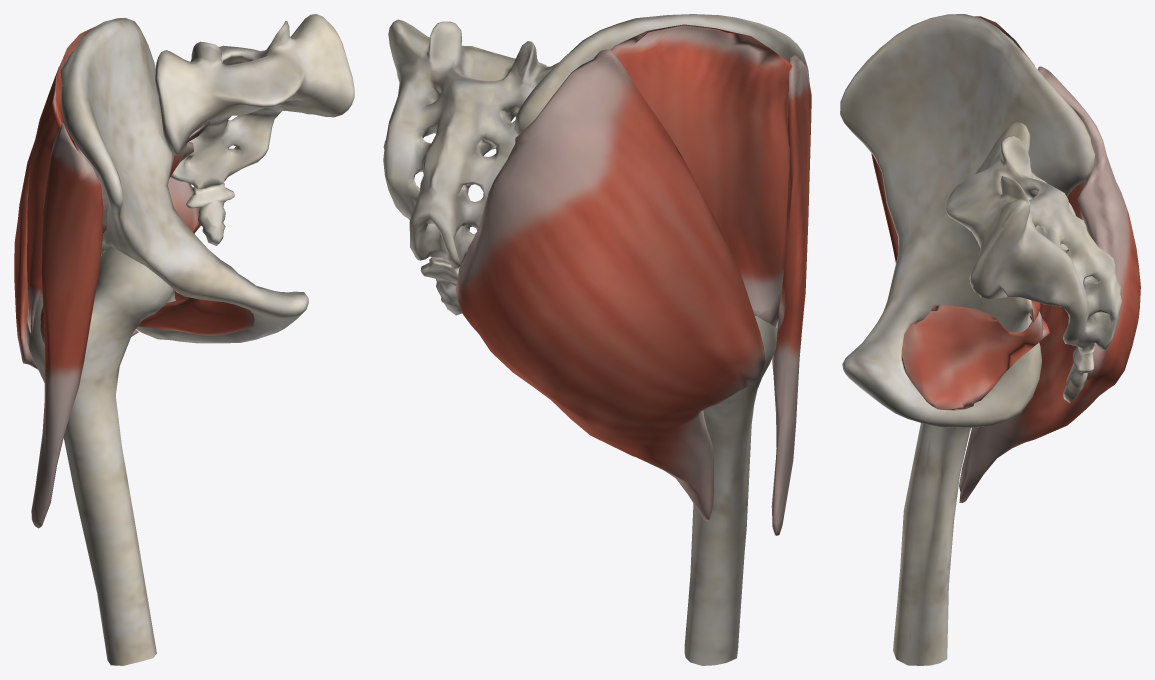
The model's file is gluteal-muscles.glb.
The picture shows the model from 3 angles, left to right: view 1: azimuth 30°, elevation 25°; view 2: azimuth 150°, elevation 25°; view 3: azimuth 270°, elevation 25°; orthographic projection. The views are drawn at different scales.
Parts seen in each view (by area): view 1: Right_hip_bone__os_coxa_or_innominate_bone_, Right_femur, Sacrum, Right_tensor_fasciae_latae, Right_gluteus_medius, Right_gluteus_maximus, Right_obturator_externus, Coccyx; view 2: Right_gluteus_maximus, Right_gluteus_medius, Sacrum, Right_femur, Right_tensor_fasciae_latae, Right_hip_bone__os_coxa_or_innominate_bone_, Coccyx; view 3: Right_hip_bone__os_coxa_or_innominate_bone_, Sacrum, Right_gluteus_maximus, Right_femur, Right_obturator_internus, Coccyx, Right_tensor_fasciae_latae.
Boxes of the visible parts, x1=… form: Right_hip_bone__os_coxa_or_innominate_bone_: x1=60, y1=18, x2=308, y2=343; Right_femur: x1=26, y1=246, x2=173, y2=665; Sacrum: x1=155, y1=14, x2=354, y2=188; Right_tensor_fasciae_latae: x1=31, y1=122, x2=103, y2=528; Right_gluteus_medius: x1=27, y1=27, x2=93, y2=335; Right_gluteus_maximus: x1=14, y1=141, x2=200, y2=369; Right_obturator_externus: x1=138, y1=297, x2=254, y2=335; Coccyx: x1=186, y1=183, x2=234, y2=245; Right_gluteus_maximus: x1=455, y1=49, x2=765, y2=521; Right_gluteus_medius: x1=610, y1=24, x2=792, y2=327; Sacrum: x1=383, y1=19, x2=558, y2=268; Right_femur: x1=684, y1=316, x2=777, y2=665; Right_tensor_fasciae_latae: x1=771, y1=55, x2=811, y2=535; Right_hip_bone__os_coxa_or_innominate_bone_: x1=514, y1=14, x2=809, y2=135; Coccyx: x1=420, y1=258, x2=461, y2=315; Right_hip_bone__os_coxa_or_innominate_bone_: x1=840, y1=14, x2=1094, y2=427; Sacrum: x1=946, y1=122, x2=1121, y2=350; Right_gluteus_maximus: x1=959, y1=66, x2=1140, y2=502; Right_femur: x1=893, y1=423, x2=971, y2=665; Right_obturator_internus: x1=901, y1=305, x2=1042, y2=410; Coccyx: x1=1063, y1=346, x2=1094, y2=402; Right_tensor_fasciae_latae: x1=871, y1=153, x2=898, y2=262.
Bounding box in the file's own units: 0.2118 × 0.3607 × 0.1553.
Materials: 14 (14 with a texture image).
